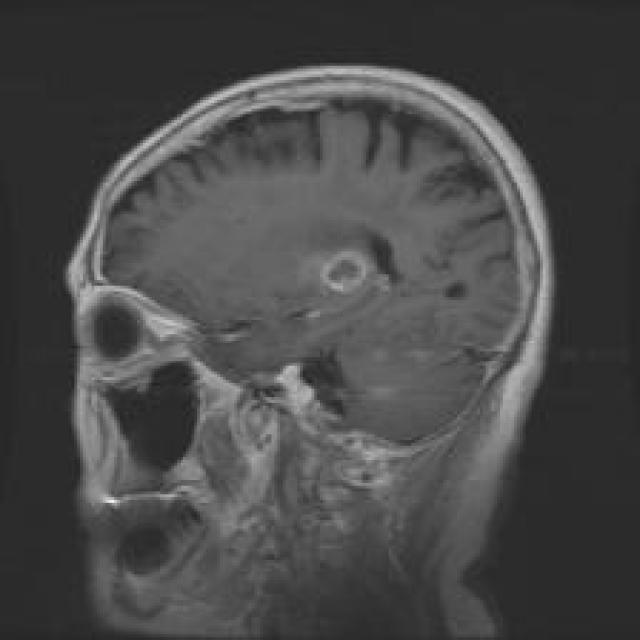glioma_tumor: (270, 219, 434, 316)
